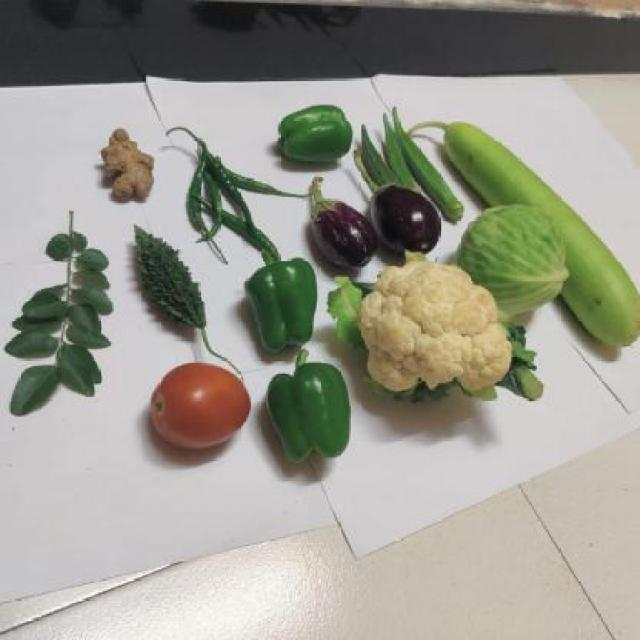Bitter melon: (130, 222, 218, 350)
Brinjal: (357, 172, 445, 257), (302, 180, 382, 268)
Cabbage: (457, 200, 572, 306)
Calabash: (411, 117, 546, 206)
Capsicum: (263, 352, 351, 470), (238, 244, 316, 358), (275, 99, 354, 164)
Cauliflower: (342, 258, 516, 391)
Ginger: (88, 126, 158, 205)
Green Chili: (172, 133, 280, 250)
Tomato: (148, 354, 249, 458)
